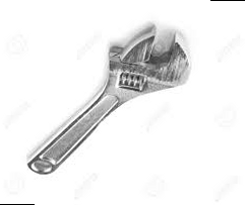Wrench: (26, 25, 195, 183)
